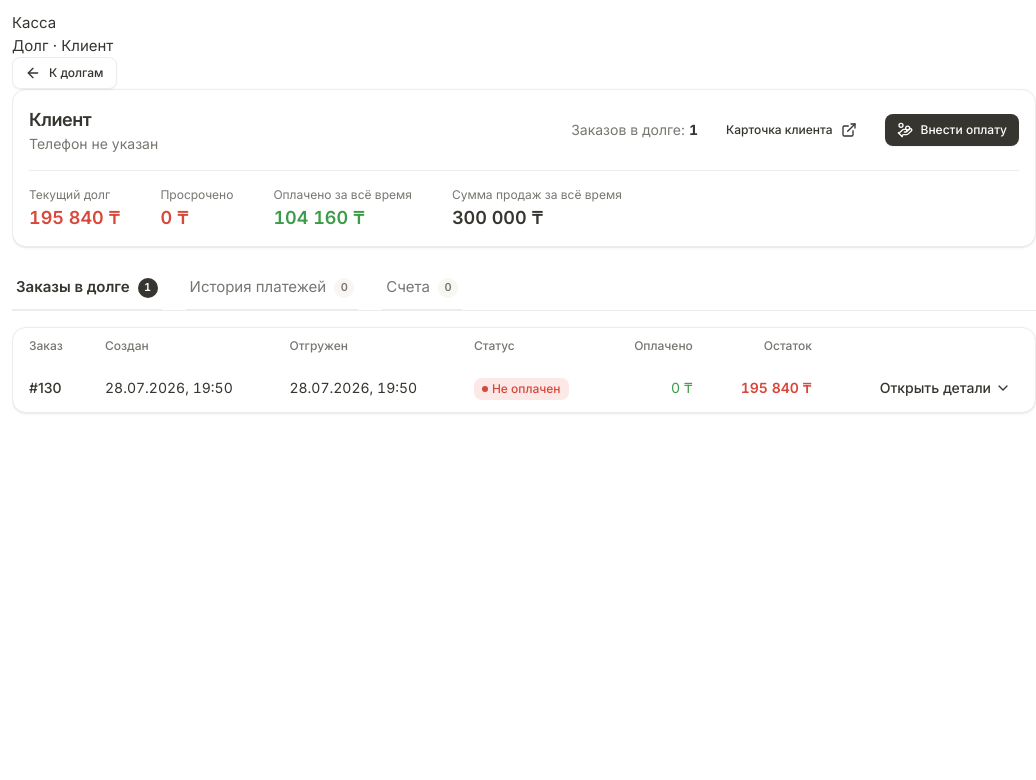
Test: disables payment for an order whose store is outside its payment window
This screenshot has width=1036, height=780.
Click the cell "#130". click: (51, 388)
box: [13,364,89,412]
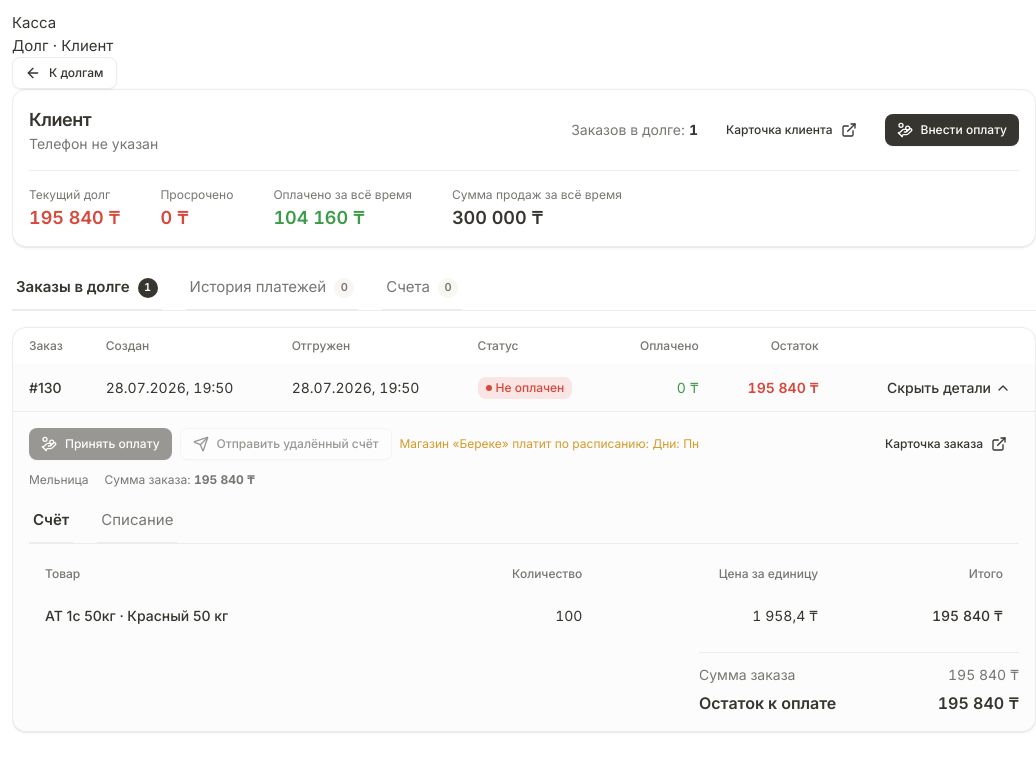
Check: the button "Принять оплату" is disabled, box [29,428,172,460]
Check: the button "Отправить удалённый счёт" is disabled, box [180,428,392,460]
